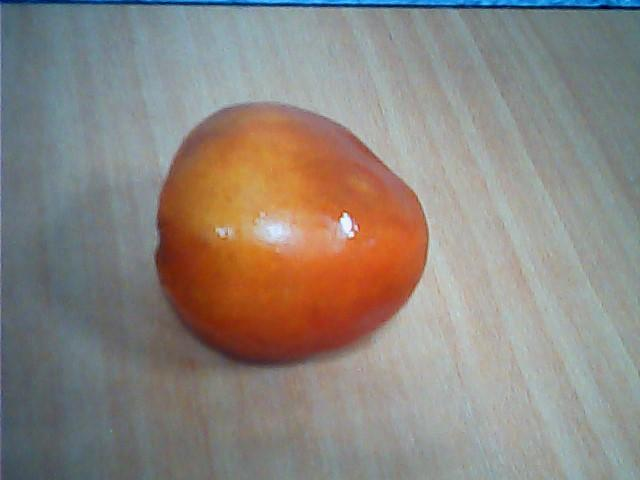verde: (149, 101, 436, 366)
